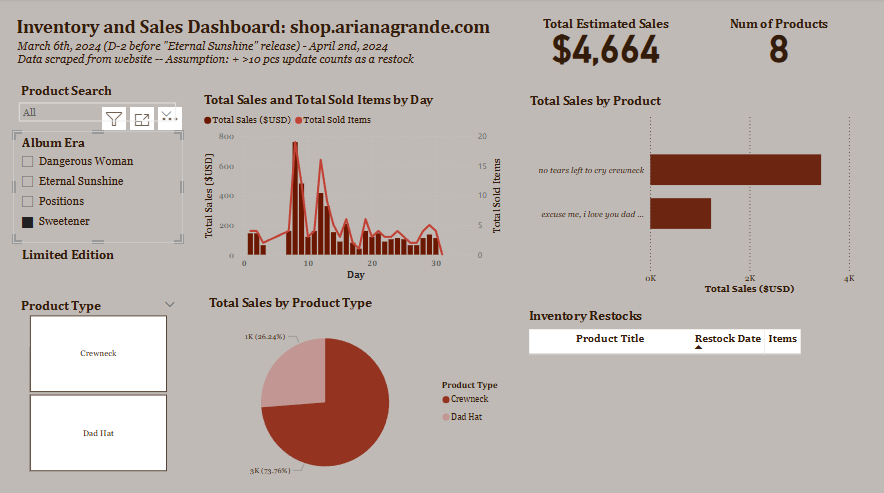

This screenshot's page, from the dashboard's own definition file:
{"tool":"powerbi","page":{"name":"Dashboard","canvas":[1280,720],"ordinal":0},"visuals":[{"type":"slicer","title":"Album ","fields":{"Values":["ariana_grande_inventory01_13.album_era"]},"box":[22.7,191.3,244.5,160.9],"z":0},{"type":"textbox","box":[23.4,20,705.7,44.3],"z":1000},{"type":"textbox","box":[24,54,706,50],"z":2000},{"type":"lineClusteredColumnComboChart","title":"Total Sales and Total Sold Items by Day","fields":{"Y":["Sum(ariana_grande_inventory01_13.estimated_total_sales)"],"Y2":["Sum(ariana_grande_inventory01_13.sold_items)"],"Category":["ariana_grande_inventory01_13.data_pulled_at.Variation.Date Hierarchy.Day"]},"box":[292.9,133.7,442,278],"z":3000},{"type":"barChart","title":"Total Sales by Product","fields":{"Category":["ariana_grande_inventory01_13.product_title"],"Y":["Sum(ariana_grande_inventory01_13.estimated_total_sales)"]},"box":[762,136,478,296],"z":4000},{"type":"slicer","fields":{"Values":["ariana_grande_inventory01_13.product_title"]},"box":[21.4,116.9,245.7,75.7],"z":5000},{"type":"slicer","title":"Product Type","fields":{"Values":["ariana_grande_inventory01_13.product_type"]},"box":[21.8,426.7,246.9,262],"z":6000},{"type":"pieChart","title":"Total Sales by Product Type","fields":{"Category":["ariana_grande_inventory01_13.product_type"],"Y":["Sum(ariana_grande_inventory01_13.estimated_total_sales)"]},"box":[298.9,425.7,442,290],"z":7000},{"type":"card","title":"Total Estimated Sales","fields":{"Values":["Sum(ariana_grande_inventory01_13.estimated_total_sales)"]},"box":[751.4,10,250,107.1],"z":8000},{"type":"card","title":"Num of Products","fields":{"Values":["Count(ariana_grande_inventory01_13.variant_sku)"]},"box":[1001.4,10,250,107.1],"z":9000},{"type":"tableEx","title":"Inventory Restocks","fields":{"Values":["ariana_grande_inventory01_13.product_title","ariana_grande_inventory01_13.Data Pulled at","ariana_grande_inventory01_13.quantity_diff"]},"box":[760.9,445.1,478.7,231.8],"z":10000},{"type":"slicer","fields":{"Values":["ariana_grande_inventory01_13.is_limited_edition"]},"box":[23.6,352.2,243.6,68.2],"z":11000}]}

Visuals, with their boxes in screenshot pixels (x1, y1, x2, y2), scaled from the page's 1280x720 canvas onto the 884x493 screenshot:
"Album " slicer: [x1=16, y1=131, x2=185, y2=241]
textbox: [x1=16, y1=14, x2=504, y2=44]
textbox: [x1=17, y1=37, x2=504, y2=71]
"Total Sales and Total Sold Items by Day" lineClusteredColumnComboChart: [x1=202, y1=92, x2=508, y2=282]
"Total Sales by Product" barChart: [x1=526, y1=93, x2=856, y2=296]
slicer - ariana_grande_inventory01_13.product_title: [x1=15, y1=80, x2=184, y2=132]
"Product Type" slicer: [x1=15, y1=292, x2=186, y2=472]
"Total Sales by Product Type" pieChart: [x1=206, y1=291, x2=512, y2=490]
"Total Estimated Sales" card: [x1=519, y1=7, x2=692, y2=80]
"Num of Products" card: [x1=692, y1=7, x2=864, y2=80]
"Inventory Restocks" tableEx: [x1=525, y1=305, x2=856, y2=463]
slicer - ariana_grande_inventory01_13.is_limited_edition: [x1=16, y1=241, x2=185, y2=288]
